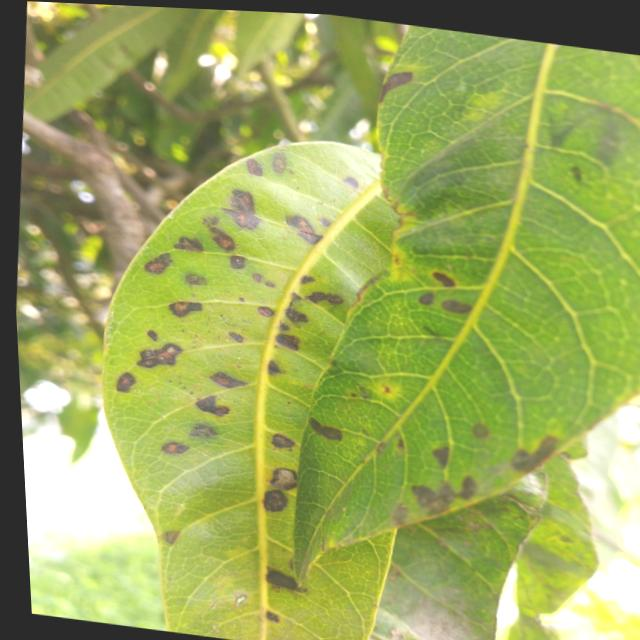Anthracnose: (216, 178, 280, 251), (505, 433, 564, 478), (169, 228, 214, 272), (198, 212, 238, 257), (370, 64, 416, 103), (282, 207, 324, 249), (411, 481, 457, 517), (302, 289, 348, 323), (133, 341, 184, 371), (262, 567, 309, 596), (193, 389, 231, 423), (278, 292, 311, 330), (304, 415, 344, 445), (142, 248, 176, 280), (208, 368, 247, 395), (268, 464, 300, 493), (168, 296, 203, 320), (111, 370, 138, 397), (430, 266, 457, 292), (430, 443, 455, 471), (457, 474, 480, 502), (188, 420, 217, 442), (305, 290, 344, 306), (388, 501, 410, 527), (273, 331, 300, 352), (440, 298, 471, 316), (468, 419, 491, 443), (262, 490, 287, 512), (249, 272, 277, 289), (173, 237, 204, 252), (341, 172, 363, 193), (416, 289, 437, 309), (243, 158, 264, 177), (271, 433, 295, 449), (264, 358, 283, 378), (226, 253, 246, 272), (270, 152, 287, 174), (226, 327, 245, 346), (161, 443, 188, 455), (183, 273, 207, 286), (263, 609, 281, 626), (164, 530, 179, 545), (256, 305, 274, 317), (234, 593, 248, 607), (570, 165, 581, 182), (145, 329, 158, 341), (300, 275, 315, 284), (278, 322, 289, 332)
